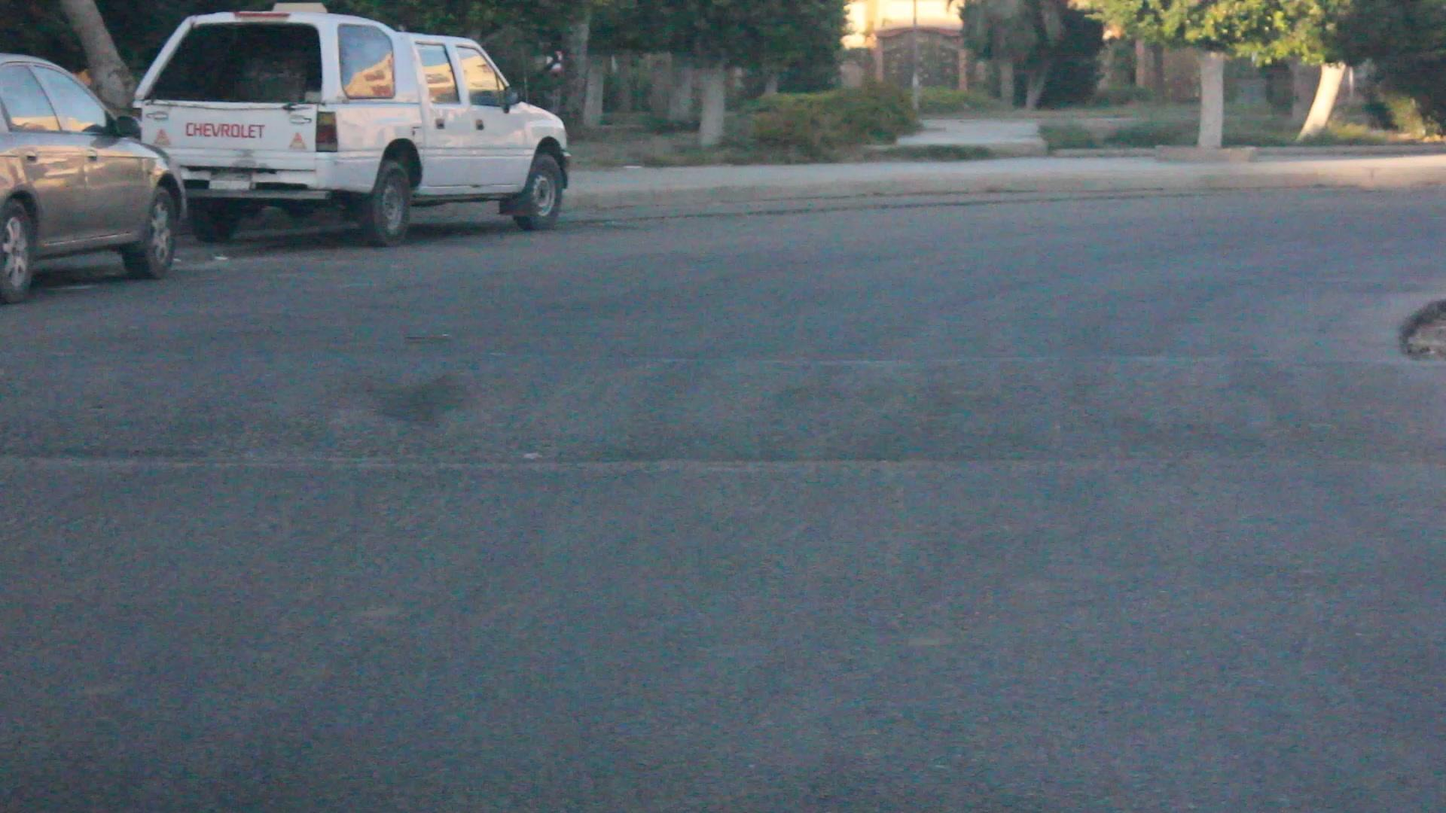Bump: (15, 311, 1433, 457)
